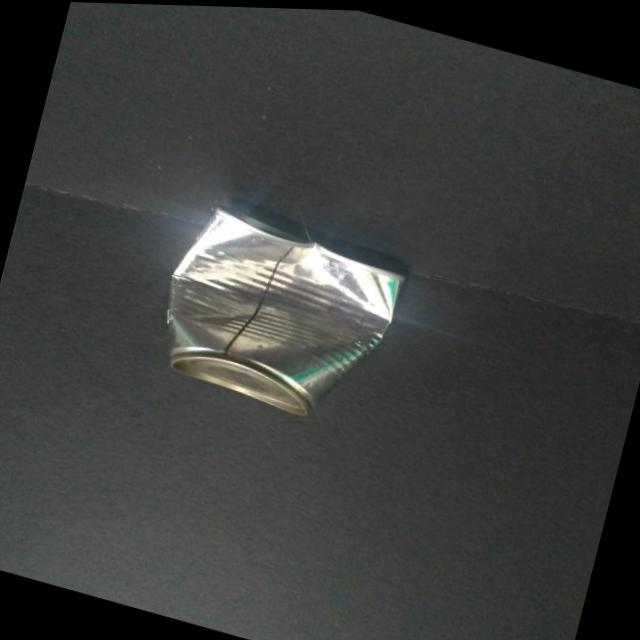metal: (167, 211, 402, 414)
